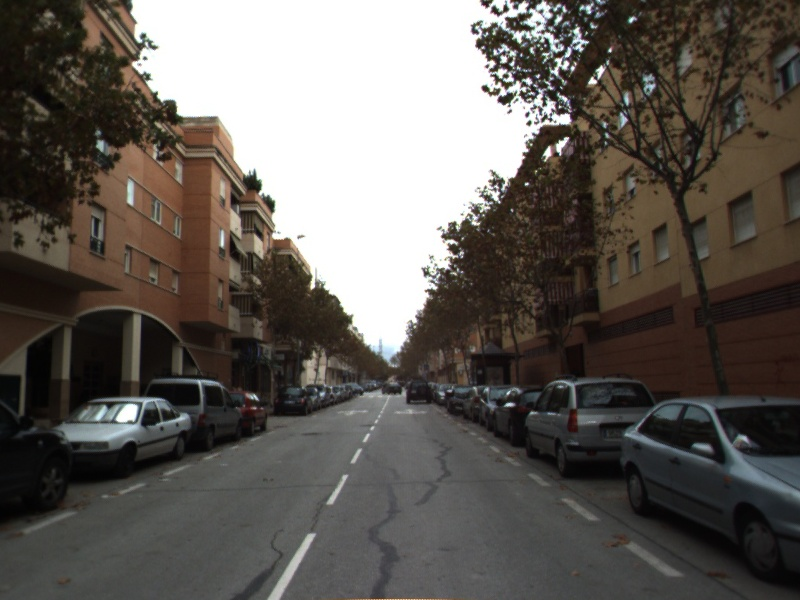STRAIGHT_LEFT_RIGHT: (391, 406, 430, 417)
